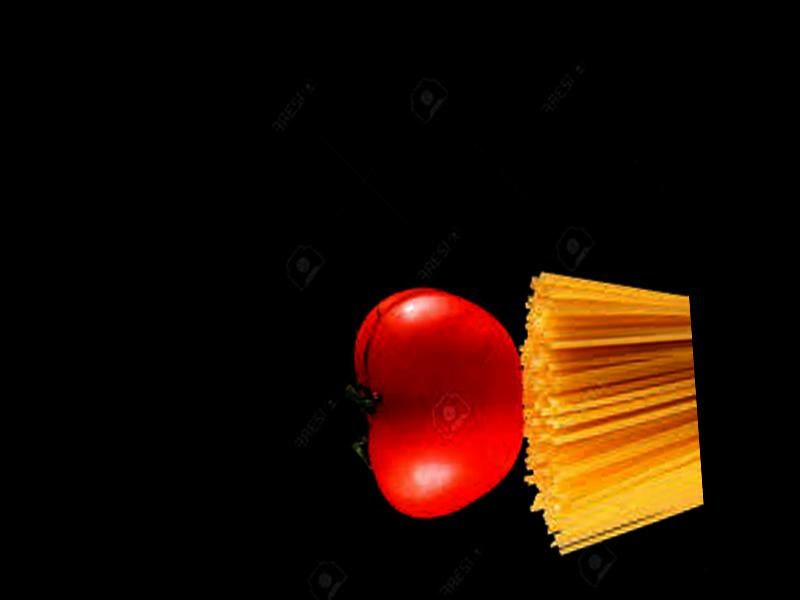Tomato: (348, 284, 531, 521)
